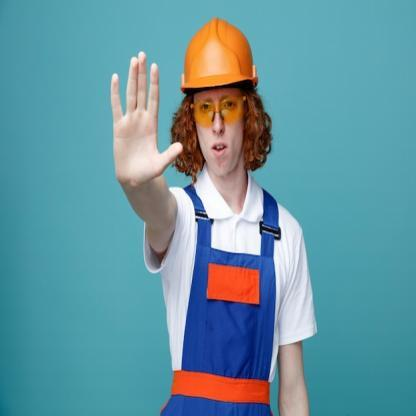stop: (109, 48, 185, 193)
